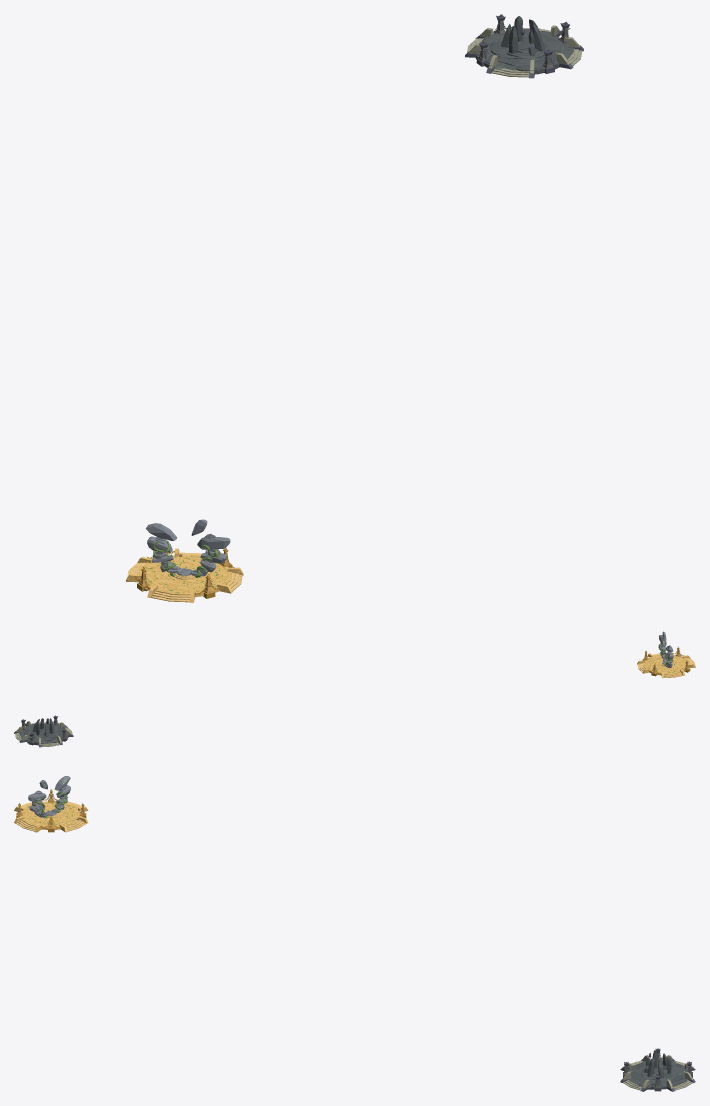
File: altars.glb
3 views of the same model, one above another, from view 1: azimuth 30°, elevation 25°; view 2: azimuth 150°, elevation 25°; view 3: azimuth 270°, elevation 25° (orthographic). The views are drawn at different scales.
Parts seen in each view (by area): view 1: Portal_Zeus, Portal_Hades; view 2: Portal_Zeus, Portal_Hades; view 3: Portal_Zeus, Portal_Hades.
Part boxes in pixels (<box>): Portal_Zeus: <box>126,519,243,602</box>; Portal_Hades: <box>465,14,583,78</box>; Portal_Zeus: <box>637,631,695,678</box>; Portal_Hades: <box>14,715,73,747</box>; Portal_Zeus: <box>14,776,88,832</box>; Portal_Hades: <box>620,1048,695,1091</box>.
Size of what is drawn, in the model's own units: 290 by 19.24 by 287.
1 material, 1 textured.
